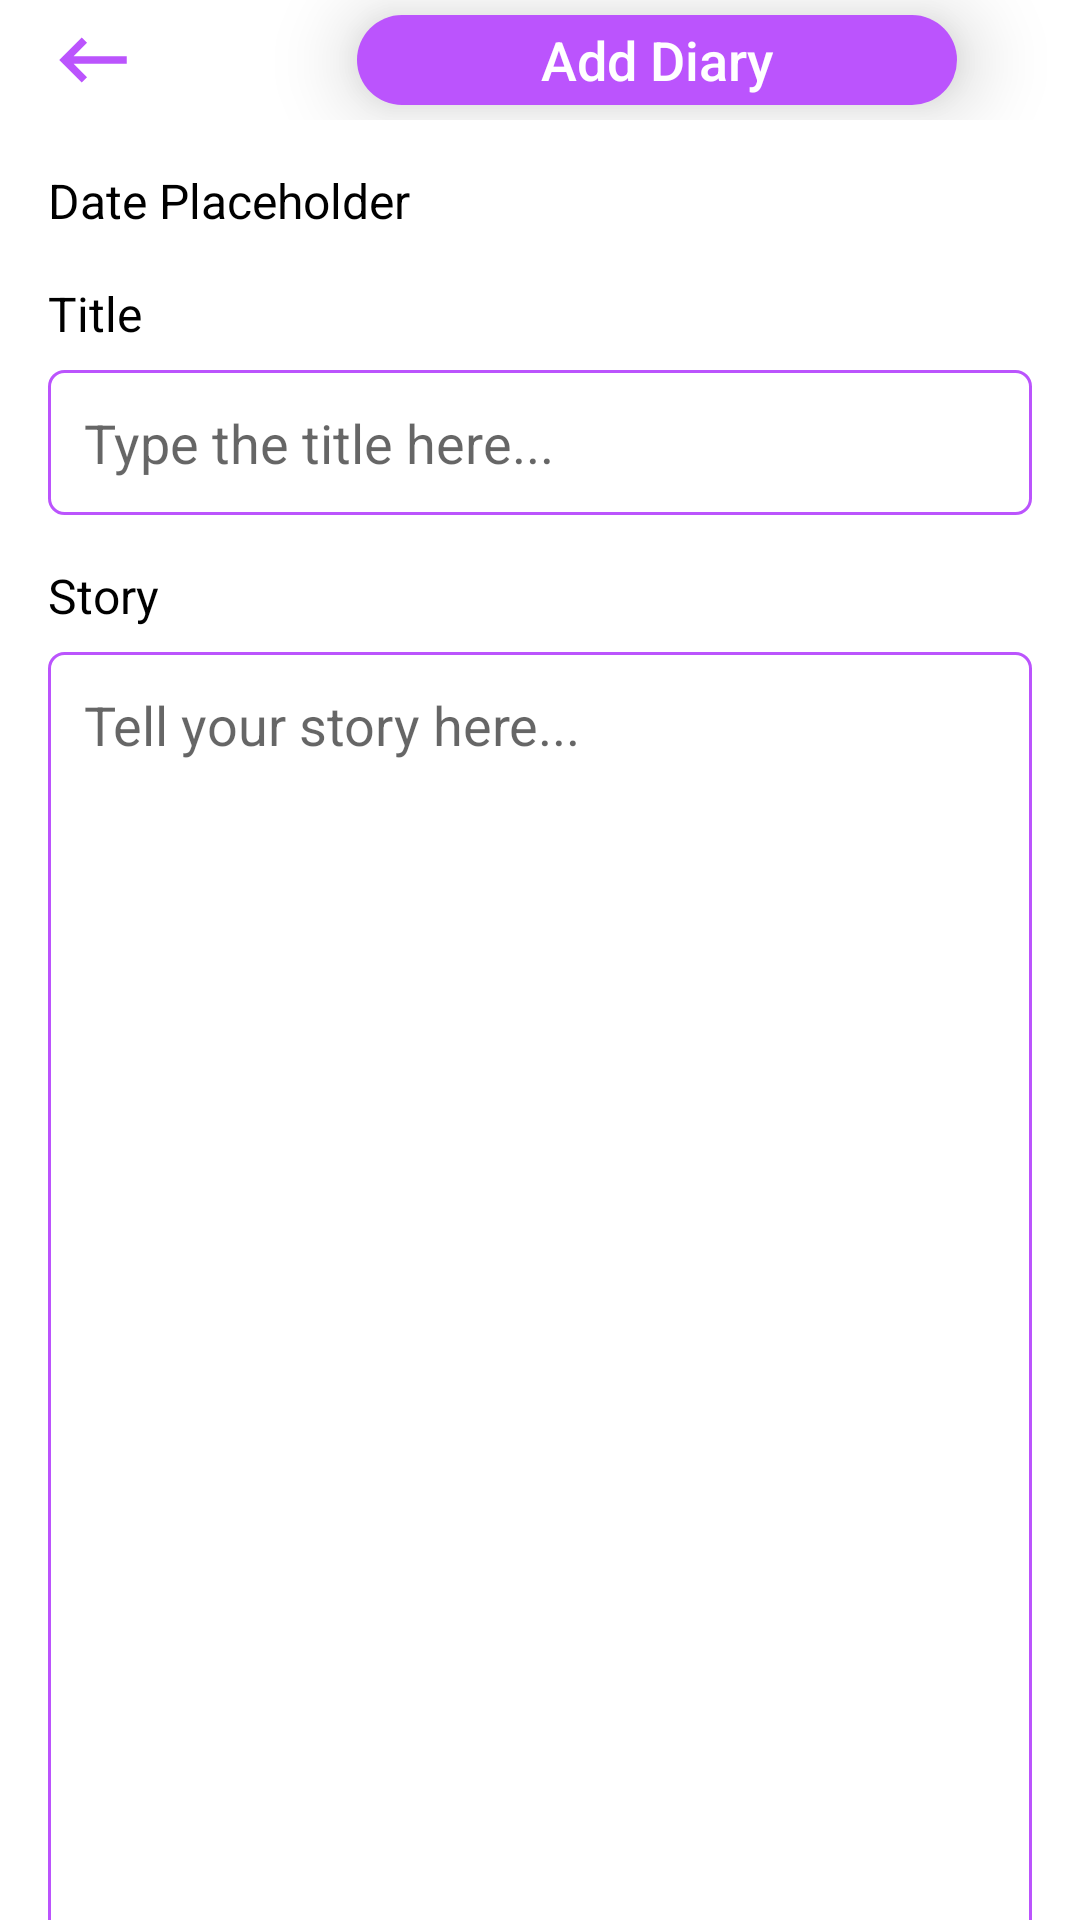

Named icons in this screenshot (1080 x 1920) and their bounding boxes, (x1, y1, x2, y2):
Back: (59, 37, 127, 83)
